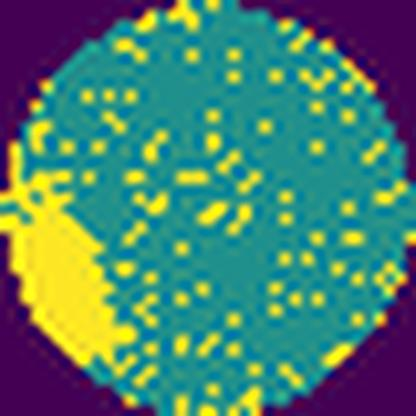Edge-Loc: (0, 138, 140, 379)
